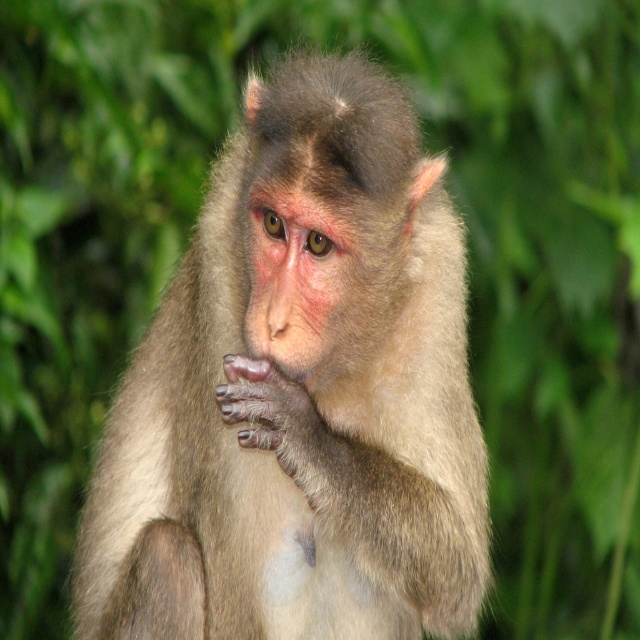Monkey: (61, 33, 517, 640)
